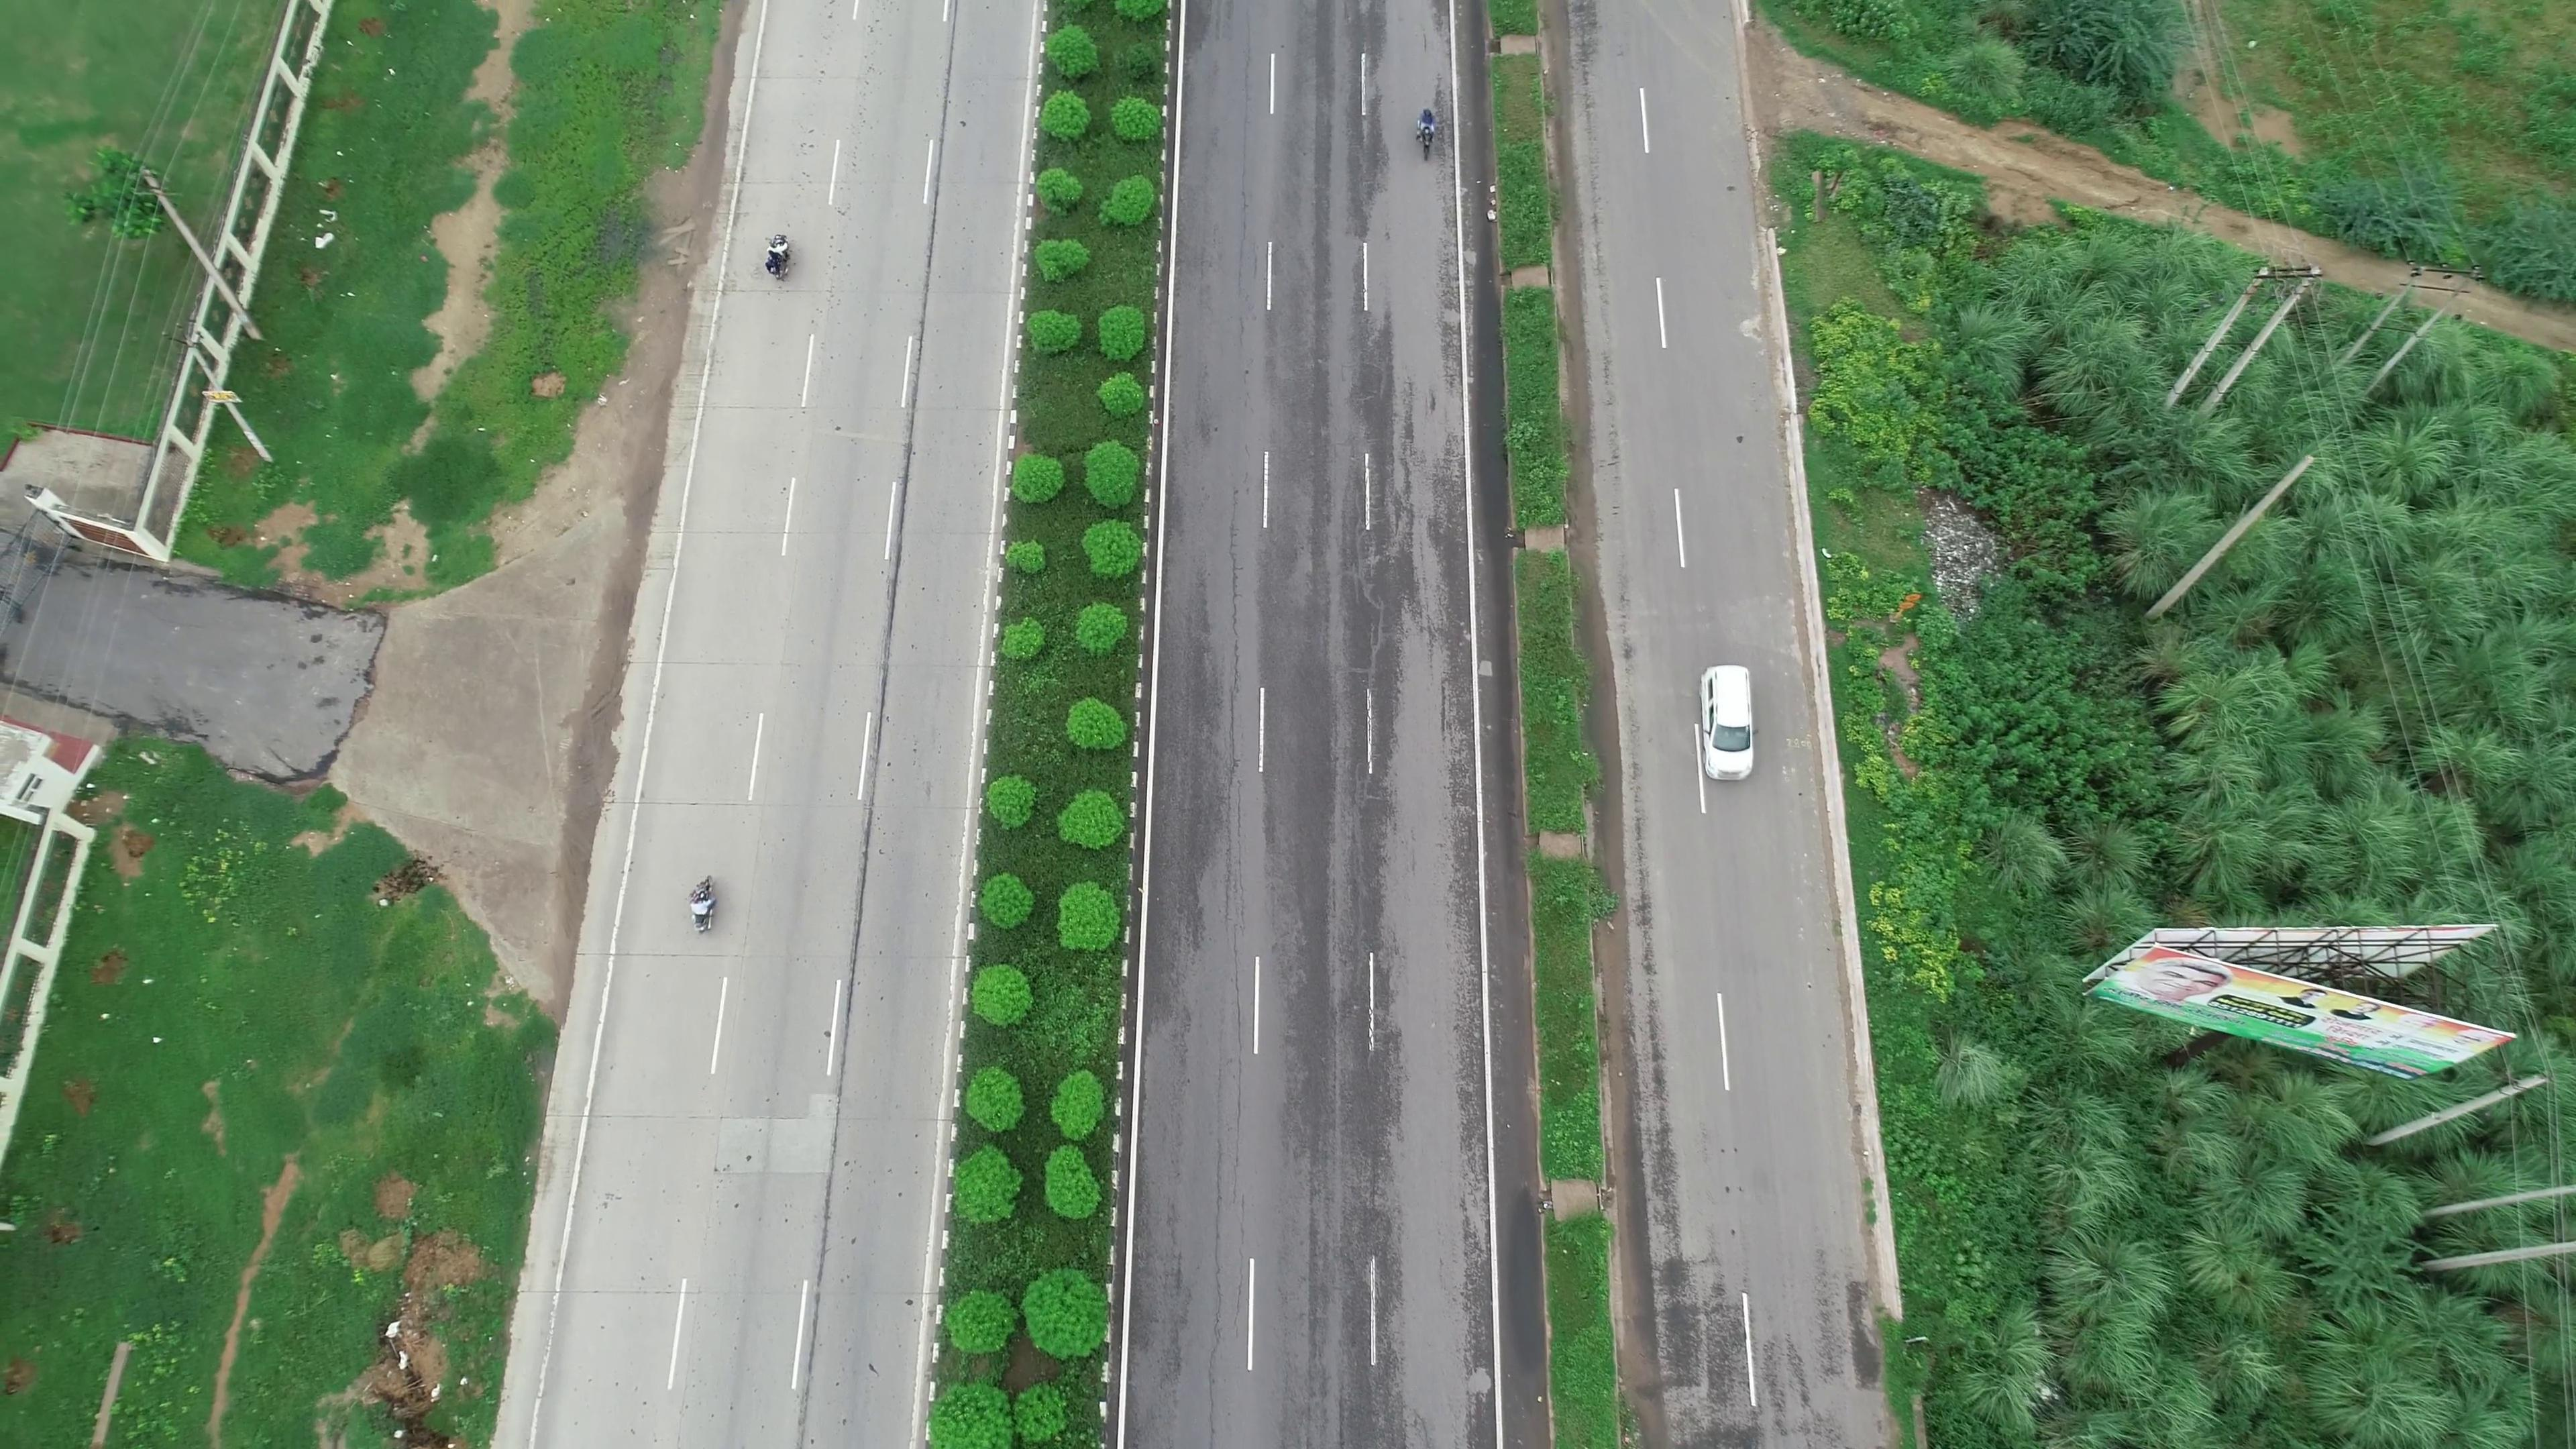Longitudinal_cracks: (1210, 492, 1253, 934), (1235, 18, 1254, 327)
